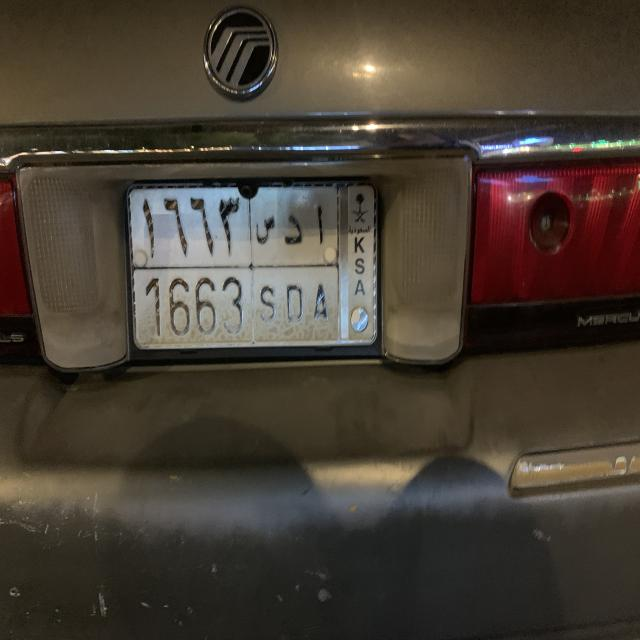license_plate: (119, 178, 388, 361)
